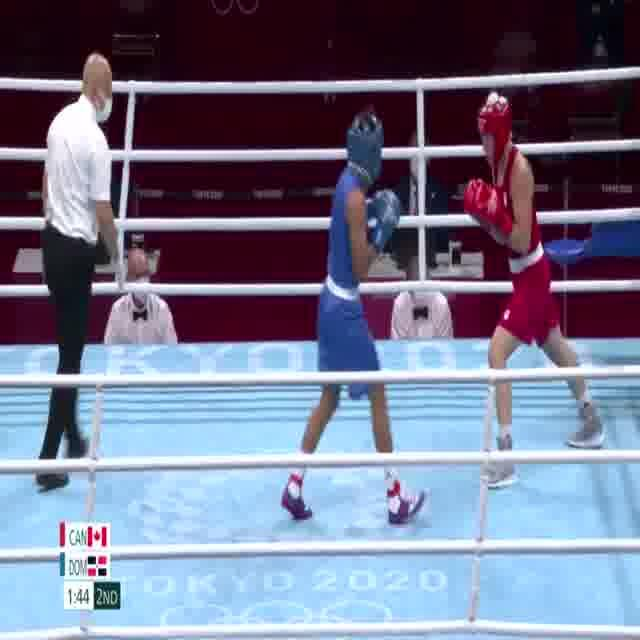blue-player: (277, 105, 433, 533)
red-player: (462, 88, 612, 493)
referee: (34, 48, 128, 490)
